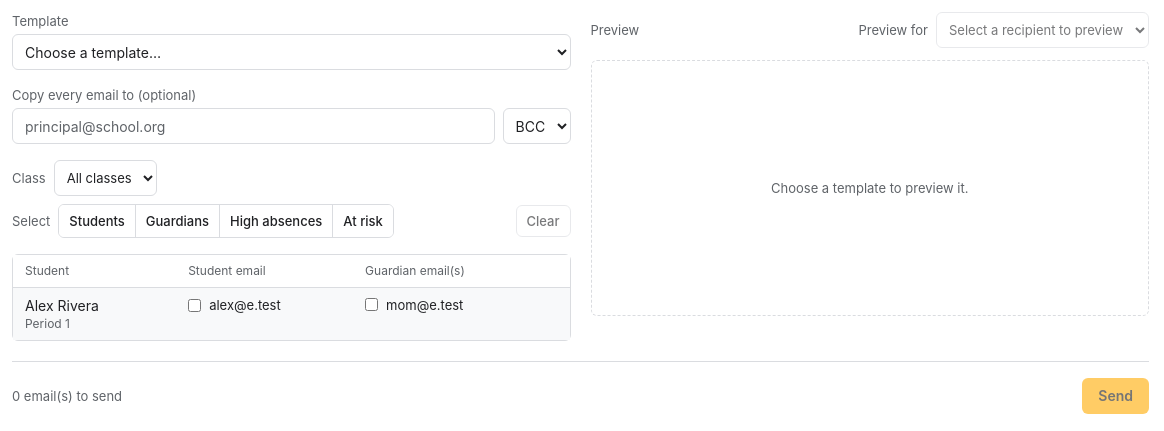
Test: ComposeView › All Students checks the student-email column
Expected: the button "Alex Rivera" is shown, [25,296,99,316]
Click the button with aria-label "Select all students" at (98, 221), box [59,205,136,237]
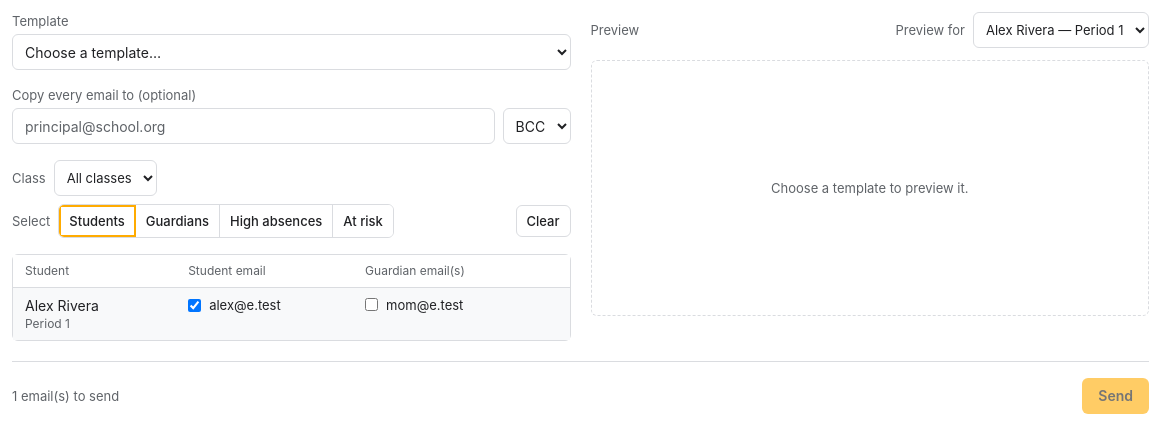
Result: the checkbox named "Student email for Alex Rivera in Period 1" is checked at [188,298,201,312]
